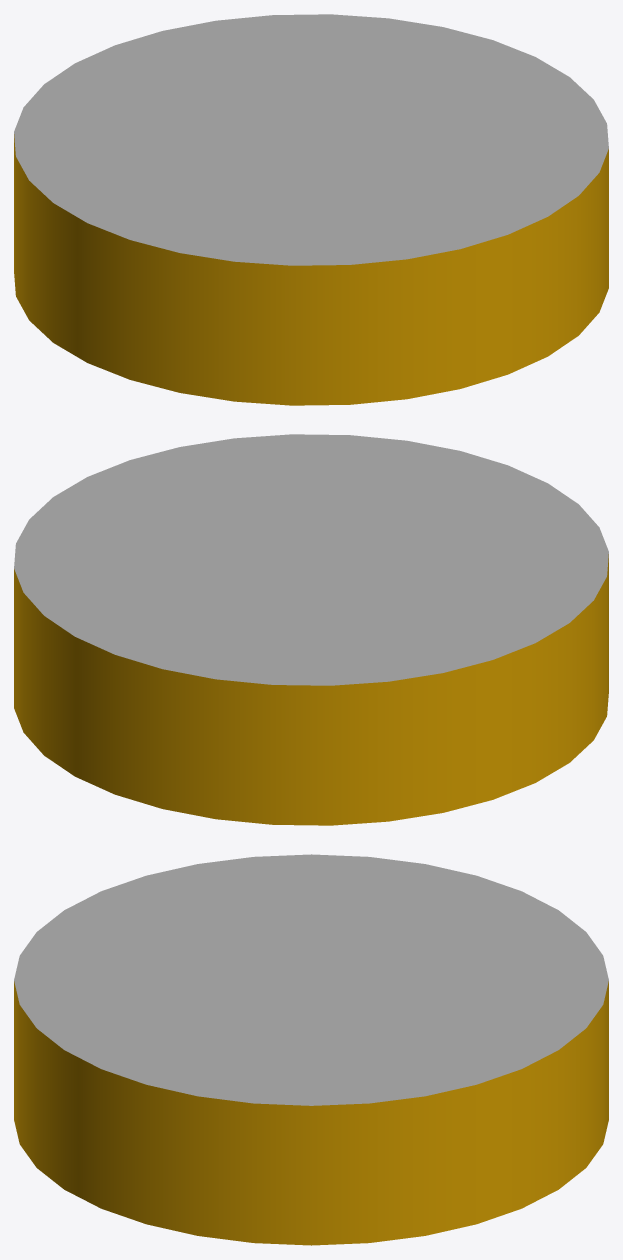
The model's file is puck.fbx.
3 views of the same model, one above another, from view 1: azimuth 30°, elevation 25°; view 2: azimuth 150°, elevation 25°; view 3: azimuth 270°, elevation 25° (orthographic).
Visible parts, largest first — view 1: puck; view 2: puck; view 3: puck.
Boxes of the visible parts, <box> form: puck: <box>14,14,608,405</box>; puck: <box>14,434,608,825</box>; puck: <box>14,854,608,1245</box>.
Size of the model in its own units: 3.07 by 0.7944 by 3.07.
